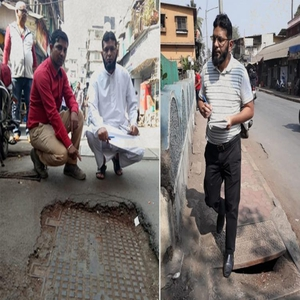pothole: (30, 199, 158, 300)
